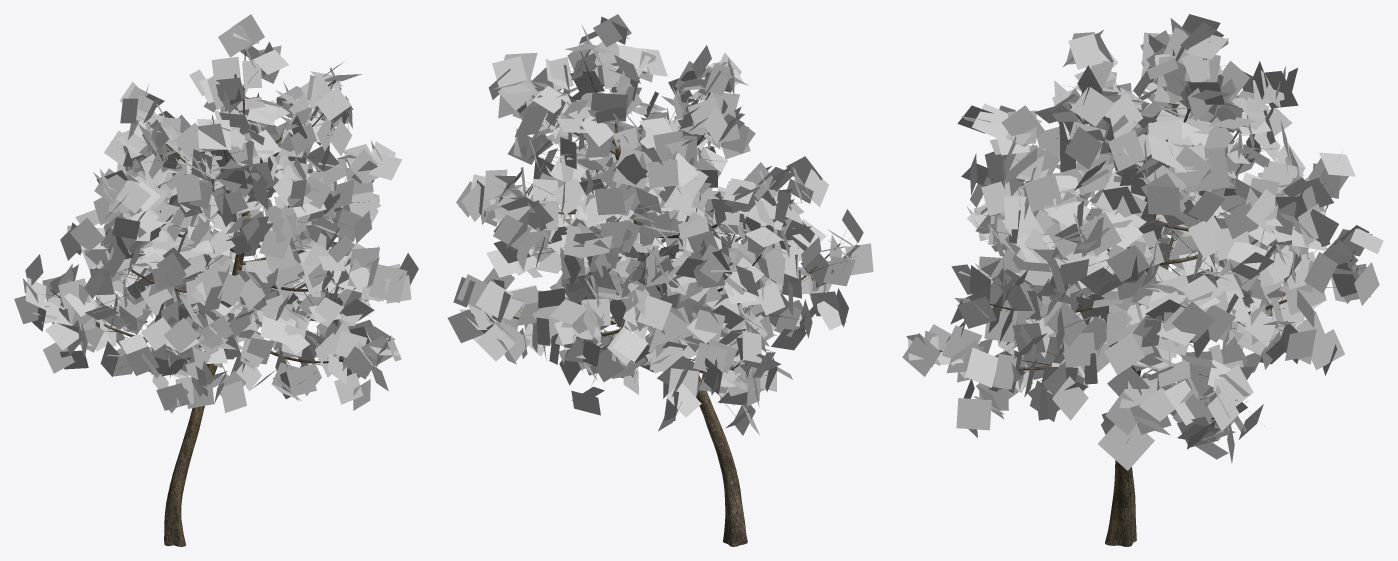
File: SM_Tree_Wetland_012.FBX
The picture shows the model from 3 angles, left to right: view 1: azimuth 30°, elevation 25°; view 2: azimuth 150°, elevation 25°; view 3: azimuth 270°, elevation 25°; orthographic projection. The views are drawn at different scales.
Visible parts, largest first — view 1: SM_Tree_Wetland_12_LOD0; view 2: SM_Tree_Wetland_12_LOD0; view 3: SM_Tree_Wetland_12_LOD0.
Boxes of the visible parts, x1,y1,x2,y2 form: SM_Tree_Wetland_12_LOD0: (14, 14, 418, 546); SM_Tree_Wetland_12_LOD0: (447, 14, 873, 546); SM_Tree_Wetland_12_LOD0: (902, 14, 1383, 546).
Size of what is drawn, in the model's own units: 265 by 275 by 370.
